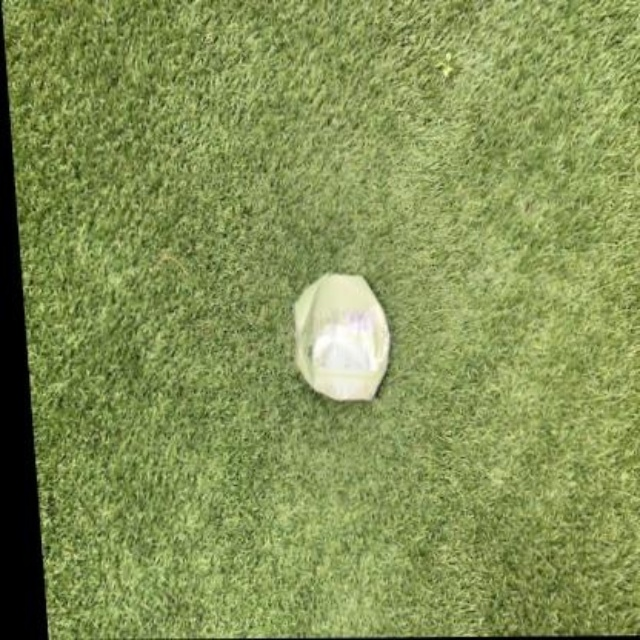trash: (294, 274, 389, 398)
